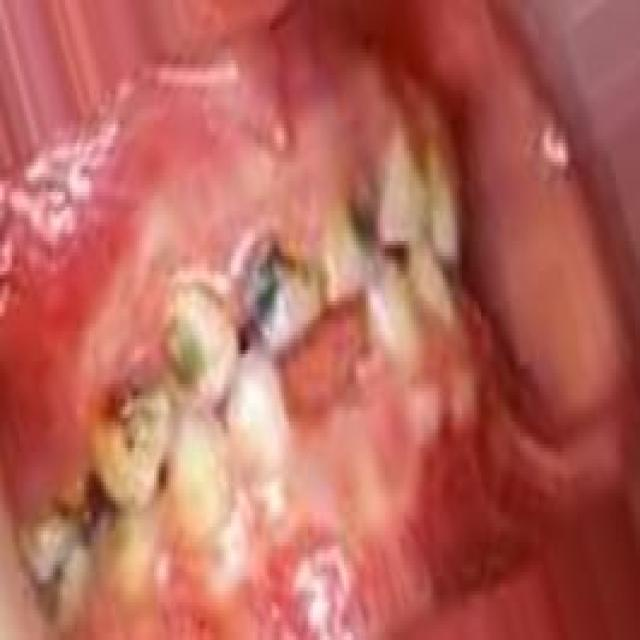caries: (83, 371, 172, 512), (239, 234, 331, 350), (159, 284, 238, 403), (320, 184, 394, 304)
